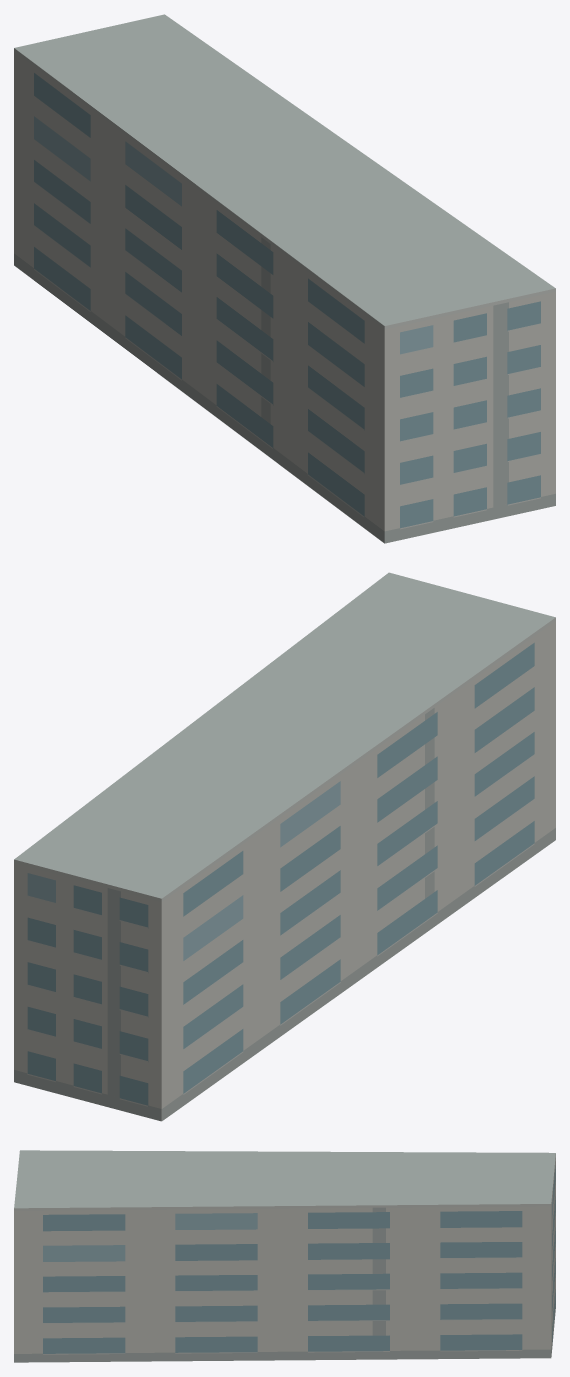
Rendered from residential-acc25c96-3b7d-44a0-b148-3bc8b7078e3e.glb.
3 views of the same model, one above another, from view 1: azimuth 30°, elevation 25°; view 2: azimuth 150°, elevation 25°; view 3: azimuth 270°, elevation 25° (orthographic). The views are drawn at different scales.
Parts seen in each view (by area): view 1: residential-acc25c96-3b7d-44a0-b148-3bc8b7078e3e.tmp; view 2: residential-acc25c96-3b7d-44a0-b148-3bc8b7078e3e.tmp; view 3: residential-acc25c96-3b7d-44a0-b148-3bc8b7078e3e.tmp.
Boxes of the visible parts, <box> form: residential-acc25c96-3b7d-44a0-b148-3bc8b7078e3e.tmp: <box>14,14,555,543</box>; residential-acc25c96-3b7d-44a0-b148-3bc8b7078e3e.tmp: <box>14,572,555,1121</box>; residential-acc25c96-3b7d-44a0-b148-3bc8b7078e3e.tmp: <box>14,1150,555,1362</box>.
Bounding box in the file's own units: 12.28 × 15.25 × 48.55.
